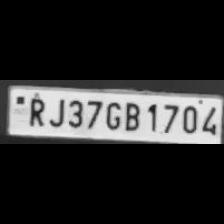0: (178, 102, 198, 134)
1: (141, 100, 158, 132)
3: (65, 96, 83, 128)
4: (198, 102, 218, 136)
7: (158, 100, 178, 134), (83, 96, 101, 130)
B: (120, 100, 142, 132)
G: (101, 99, 121, 131)
J: (46, 96, 66, 127)
R: (24, 94, 46, 128)
